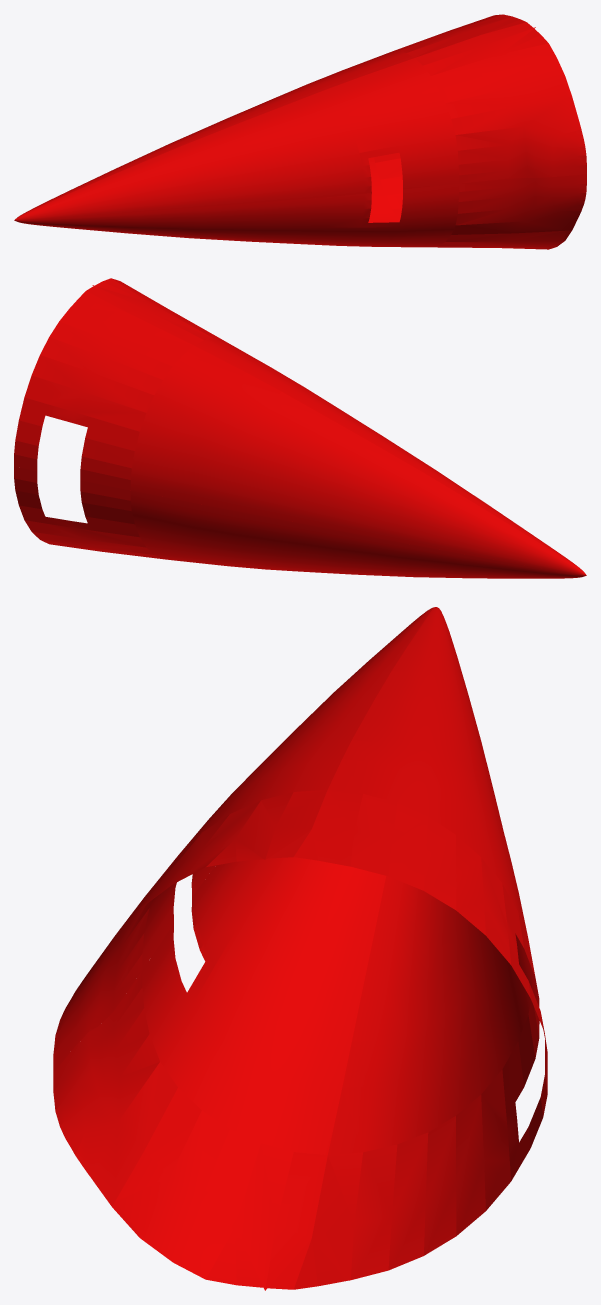
Rendered from rafale_highlight_04_cone_radar.fbx.
3 renders of one model, top to bottom at view 1: azimuth 30°, elevation 25°; view 2: azimuth 150°, elevation 25°; view 3: azimuth 270°, elevation 25°, orthographic. The views are drawn at different scales.
Visible parts, largest first — view 1: rafale_highlight_04_cone_radar; view 2: rafale_highlight_04_cone_radar; view 3: rafale_highlight_04_cone_radar.
Boxes of the visible parts, x1=… form: rafale_highlight_04_cone_radar: x1=14, y1=14, x2=586, y2=249; rafale_highlight_04_cone_radar: x1=14, y1=278, x2=586, y2=578; rafale_highlight_04_cone_radar: x1=53, y1=607, x2=547, y2=1290.
Bounding box in the file's own units: 89.38 × 38.56 × 39.96.
